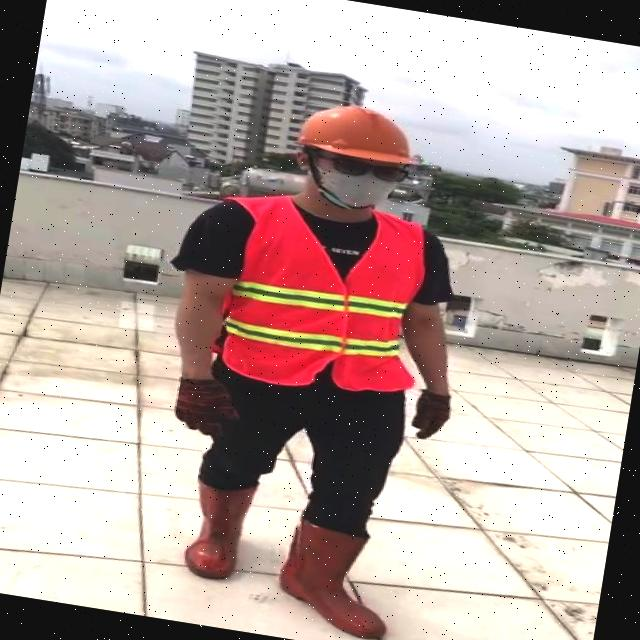boots: (270, 514, 404, 640), (180, 476, 252, 584)
helmet: (287, 94, 431, 170)
vest: (215, 194, 436, 400)
